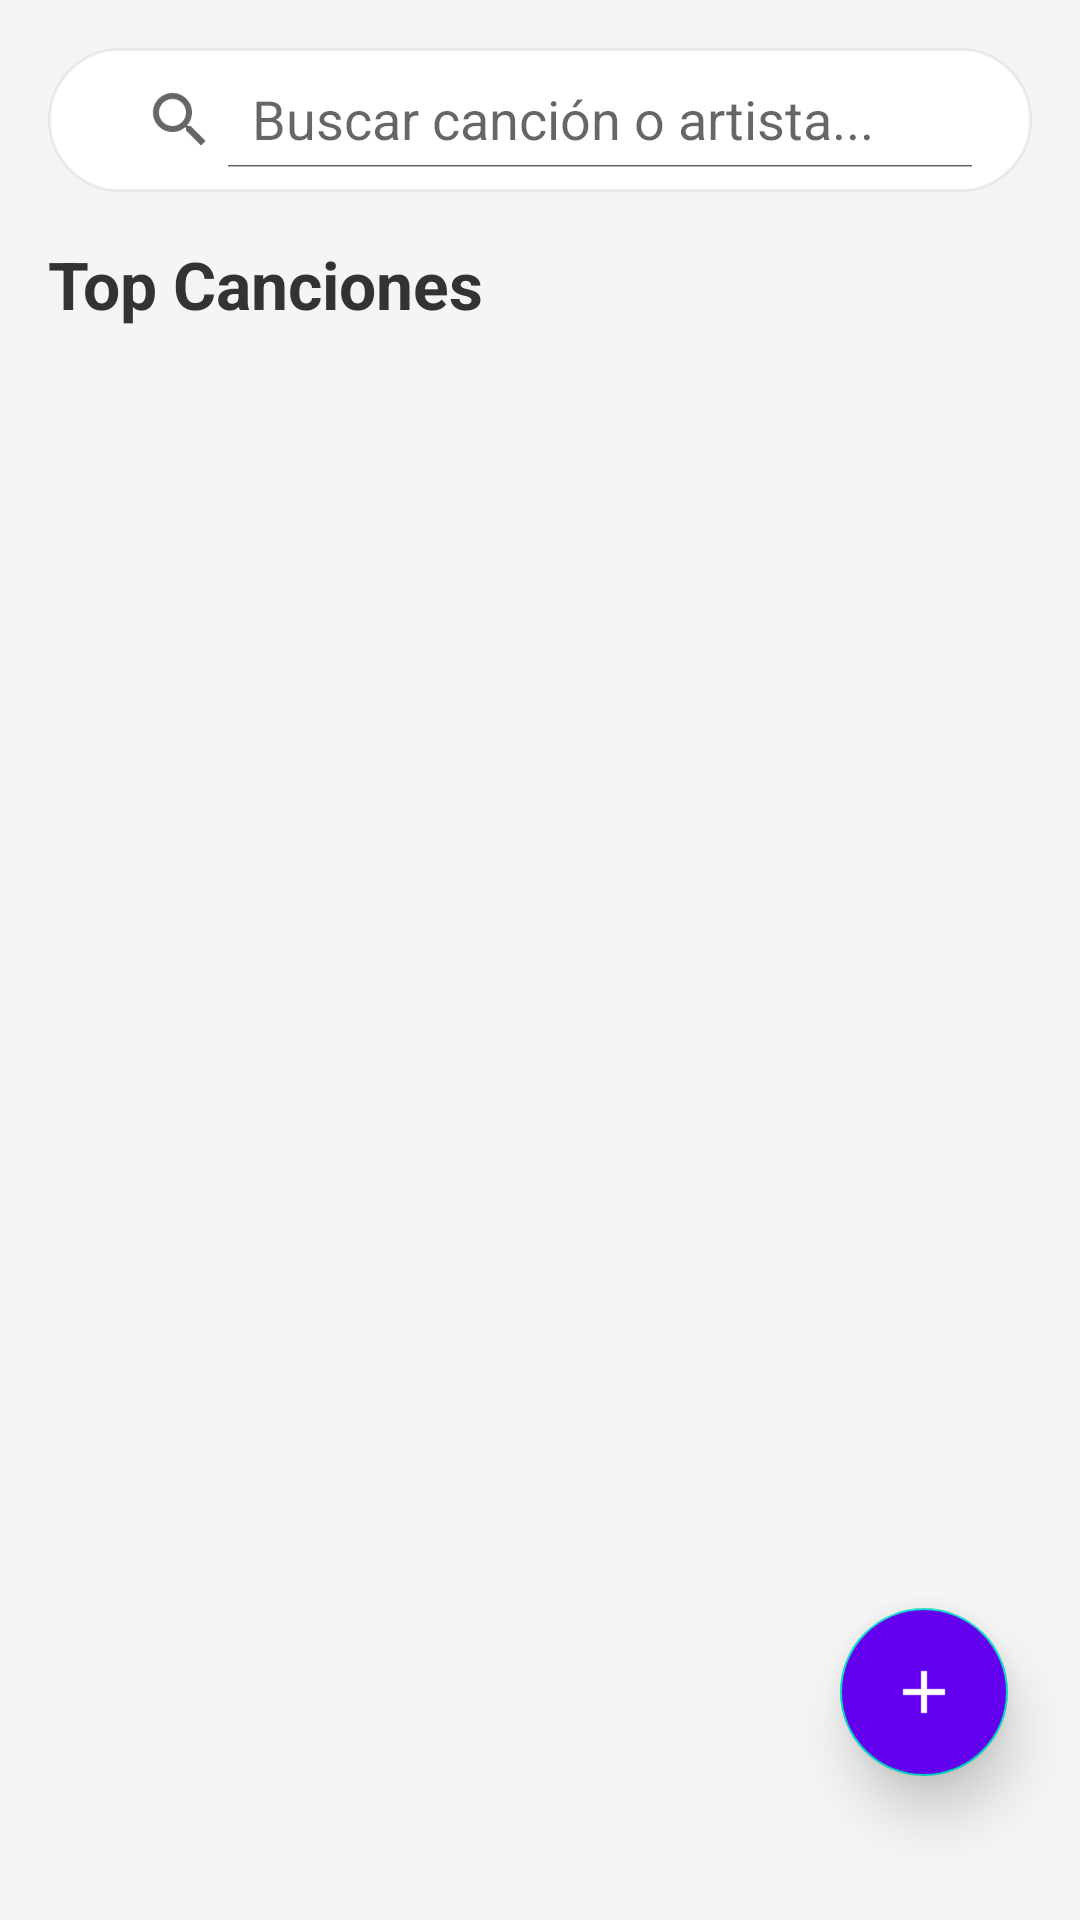

Named icons in this screenshot (1080px×1920px) and their centers, point (x, y):
add: point (924, 1692)
